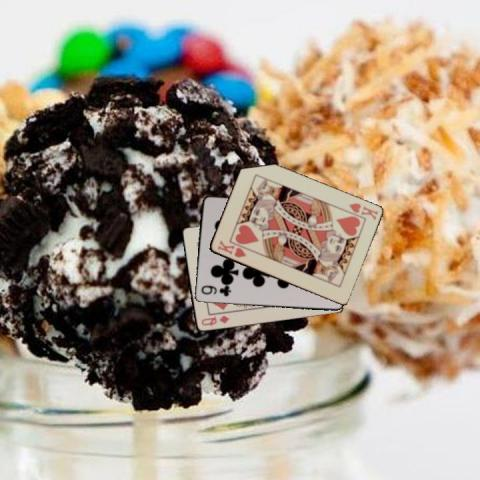9c: (198, 283, 232, 298)
Kh: (214, 237, 247, 259), (346, 200, 380, 221)
Qd: (198, 313, 231, 327)
